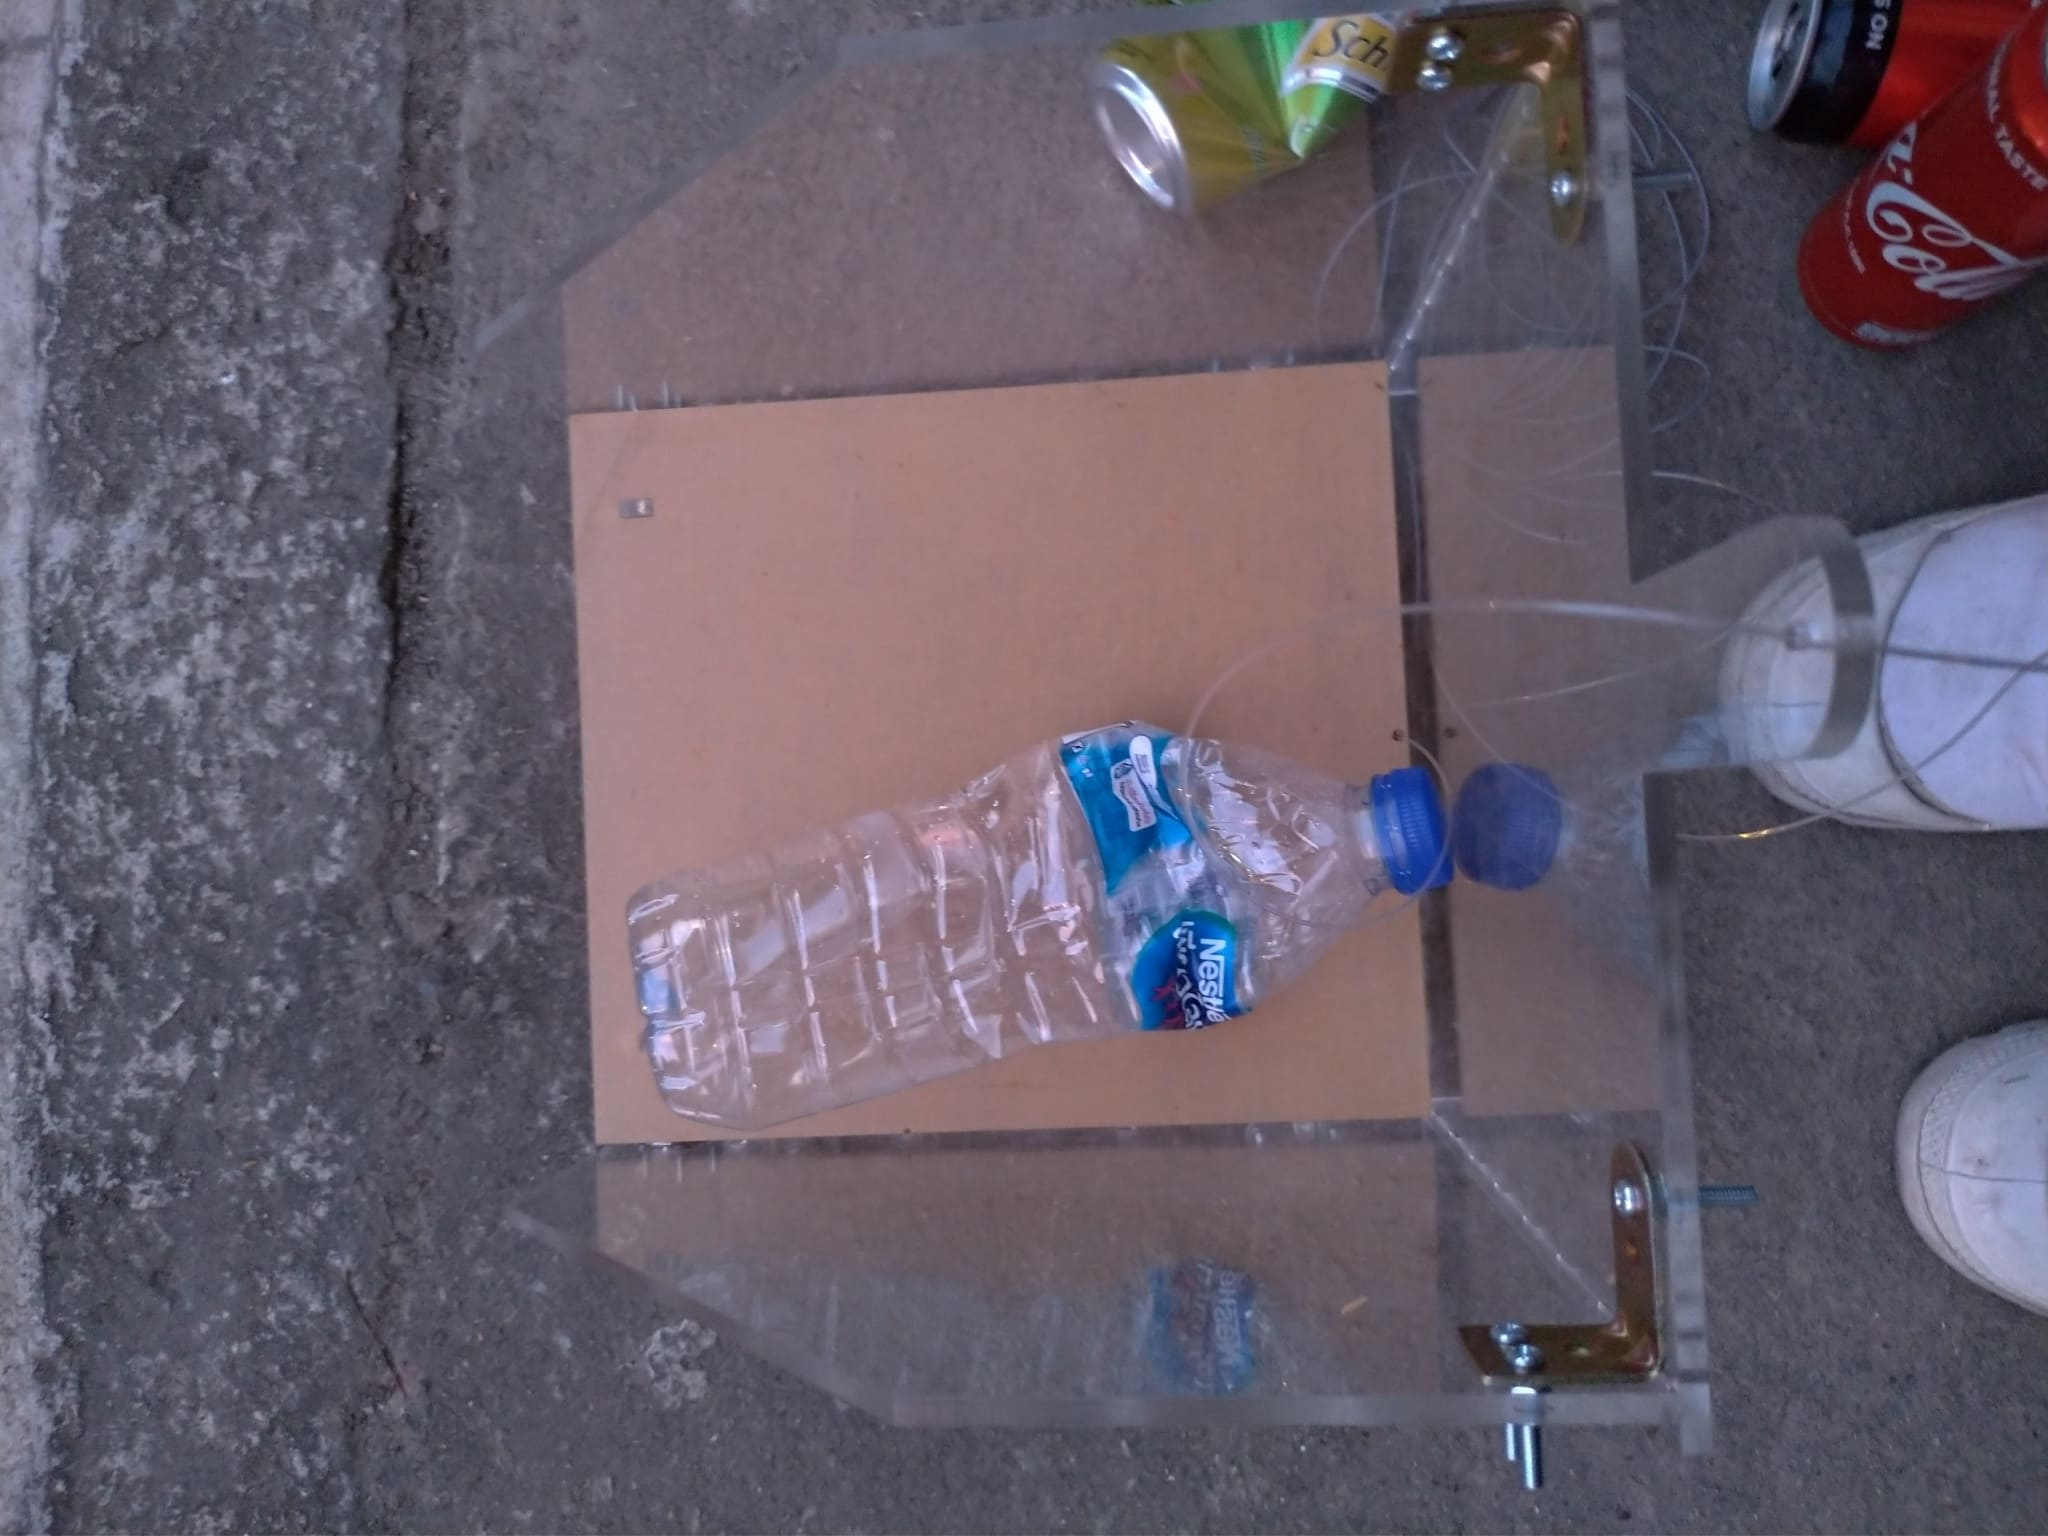AlCan: (1796, 11, 2048, 358), (1089, 10, 1392, 211), (1743, 5, 1946, 153)
PlasticBottle: (631, 715, 1447, 1146)
